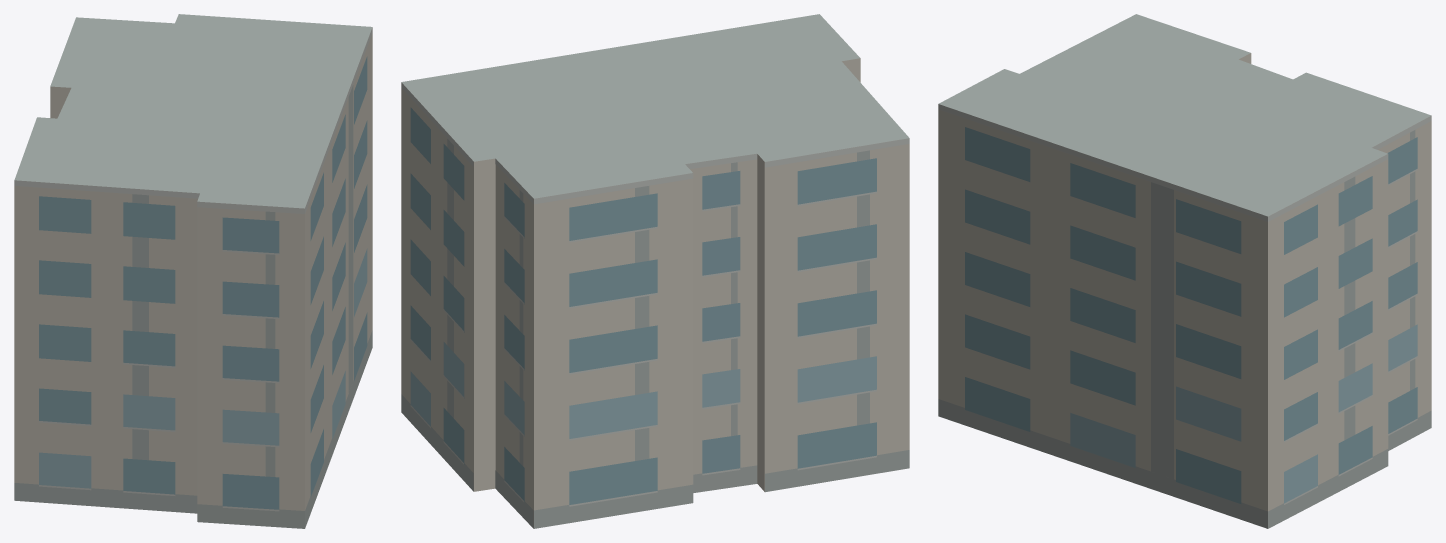
File: survey-upis-33015474.glb
3 renders of one model, left to right at view 1: azimuth 30°, elevation 25°; view 2: azimuth 150°, elevation 25°; view 3: azimuth 270°, elevation 25°, orthographic. The views are drawn at different scales.
Visible parts, largest first — view 1: survey-upis-33015474.tmp; view 2: survey-upis-33015474.tmp; view 3: survey-upis-33015474.tmp.
Boxes of the visible parts, x1,y1,x2,y2 form: survey-upis-33015474.tmp: (14,14,372,528); survey-upis-33015474.tmp: (401,14,909,528); survey-upis-33015474.tmp: (938,14,1431,528).
Size of the model in its own units: 19.62 by 14.1 by 20.2.
